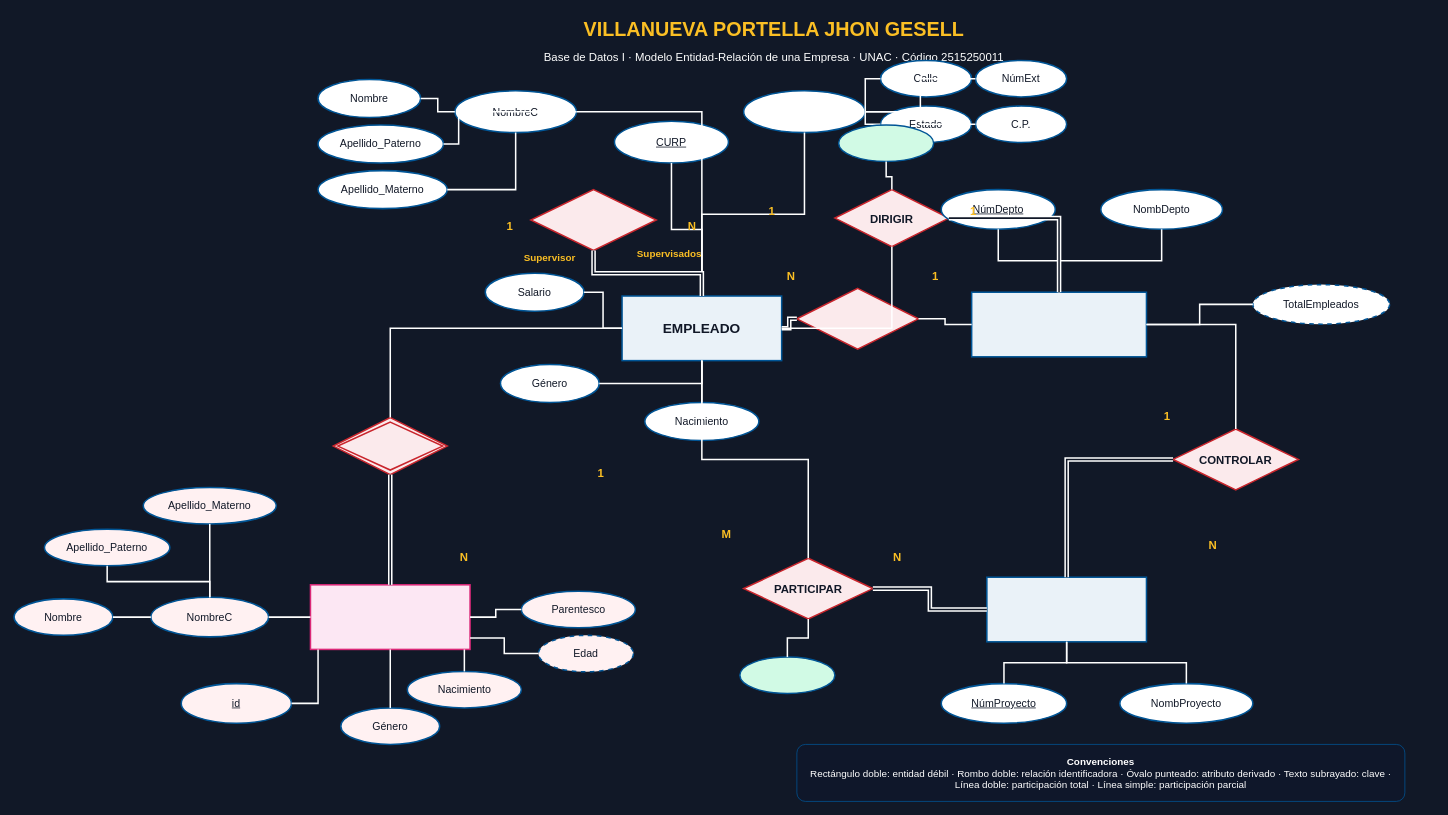
Some shapes in this 1448 by 815 pixel diagram are drawn without their labels. Each missing label, with the centre of its shape:
"ASIGNAR" goes at (857,318).
"DEPARTAMENTO" goes at (1059,324).
"Dirección" goes at (804,111).
"FAMILIAR" goes at (389,617).
"Fecha" goes at (886,143).
"Horas" goes at (787,675).
"PROYECTO" goes at (1066,609).
"SUPERVISAR" goes at (593,219).
"TENER" goes at (390,445).
